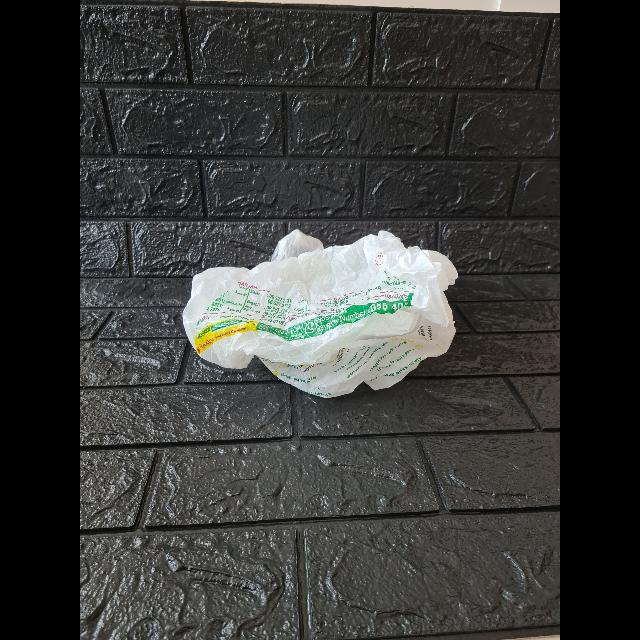plastic_bag: (178, 230, 467, 394)
